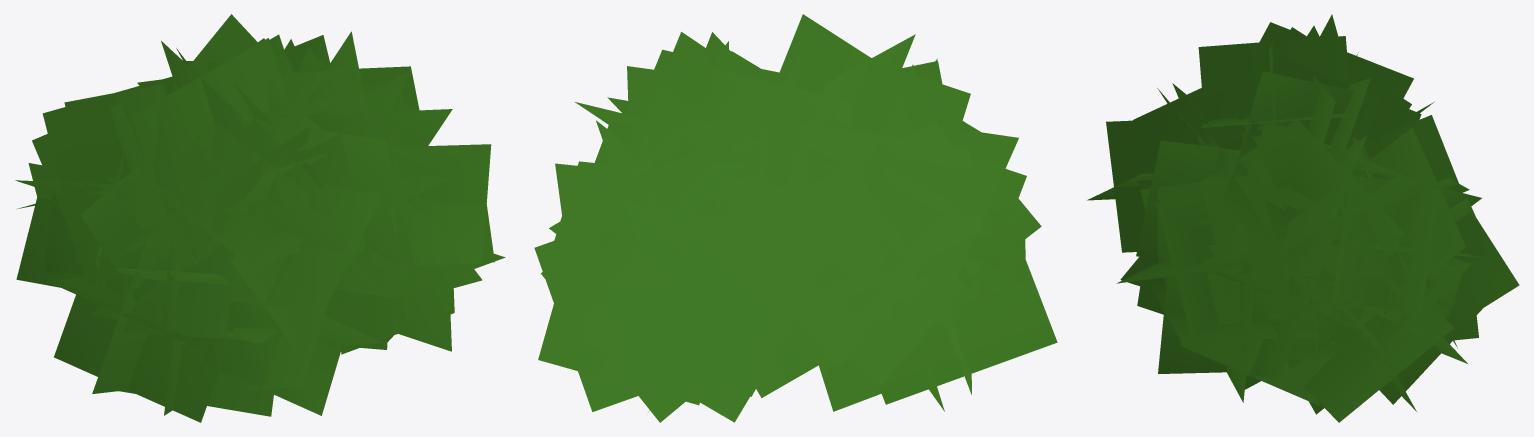
The model's file is SM_bush_06.fbx.
The picture shows the model from 3 angles, left to right: view 1: azimuth 30°, elevation 25°; view 2: azimuth 150°, elevation 25°; view 3: azimuth 270°, elevation 25°; orthographic projection. The views are drawn at different scales.
Visible parts, largest first — view 1: bush_06; view 2: bush_06; view 3: bush_06.
Part boxes in pixels (left/top/right/bottom): bush_06: left=15, top=14, right=505, bottom=422; bush_06: left=534, top=14, right=1057, bottom=422; bush_06: left=1087, top=14, right=1519, bottom=422.
Bounding box in the file's own units: 742 × 585 × 705.
